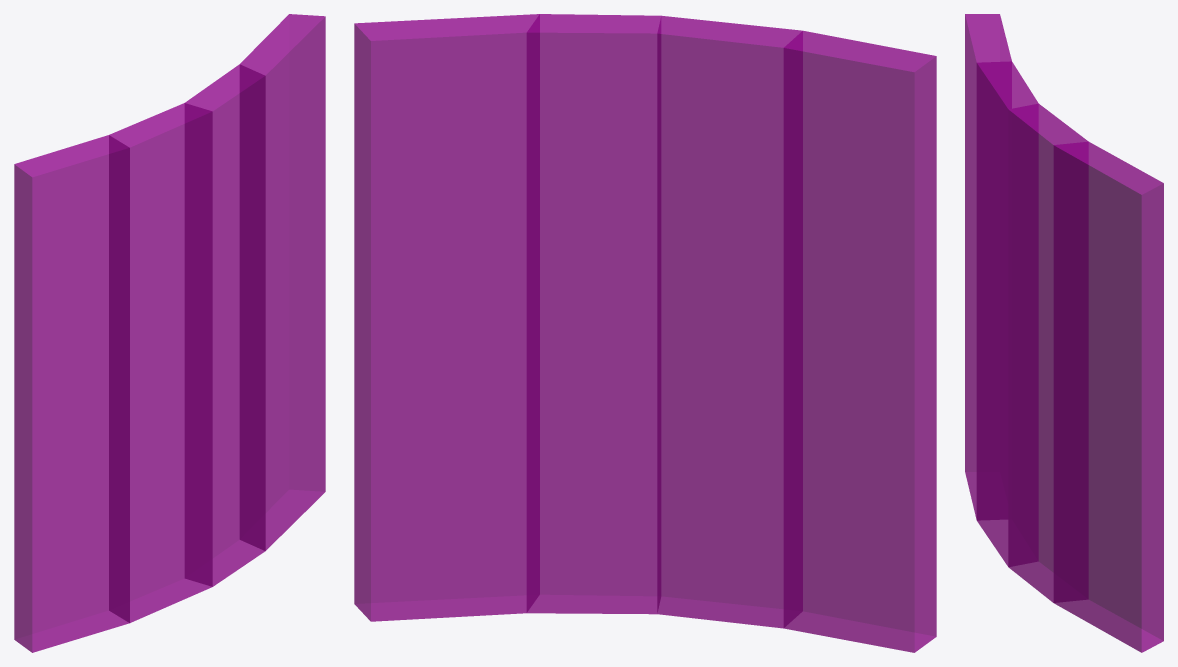
The model's file is SM_Bld_Wall_Curve_Door_01_Door_01_Collision.fbx.
The picture shows the model from 3 angles, left to right: view 1: azimuth 30°, elevation 25°; view 2: azimuth 150°, elevation 25°; view 3: azimuth 270°, elevation 25°; orthographic projection. The views are drawn at different scales.
Parts seen in each view (by area): view 1: SM_Bld_Wall_Curve_Door_01_Door_01_Collision; view 2: SM_Bld_Wall_Curve_Door_01_Door_01_Collision; view 3: SM_Bld_Wall_Curve_Door_01_Door_01_Collision.
Boxes of the visible parts, x1,y1,x2,y2 form: SM_Bld_Wall_Curve_Door_01_Door_01_Collision: [14, 14, 325, 652]; SM_Bld_Wall_Curve_Door_01_Door_01_Collision: [354, 14, 936, 652]; SM_Bld_Wall_Curve_Door_01_Door_01_Collision: [965, 14, 1163, 652].
Bounding box in the file's own units: 224 × 264 × 104.
